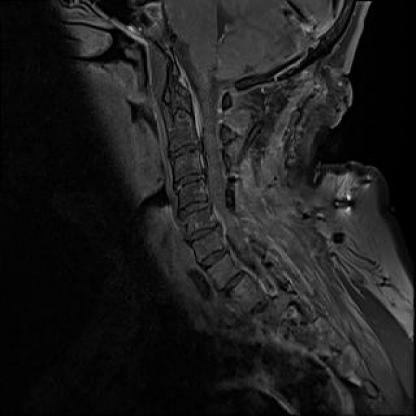Disc Protrusionrotation: (185, 225, 220, 242), (172, 172, 206, 189), (176, 199, 210, 216), (195, 249, 232, 264)
Osteophytesrotation: (185, 225, 220, 242), (172, 172, 206, 189)
